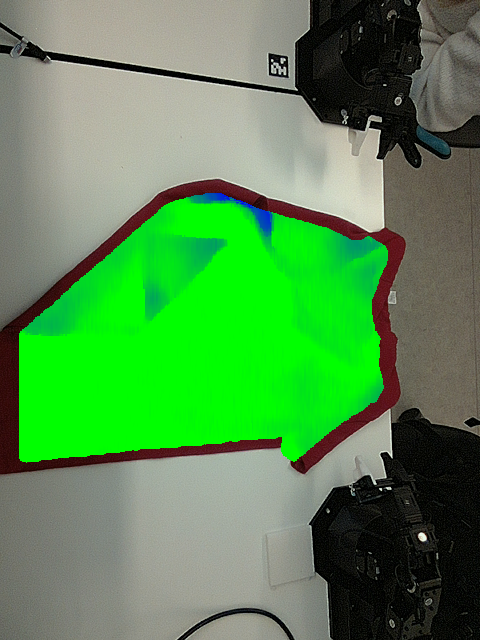V: (143, 227, 189, 274)
